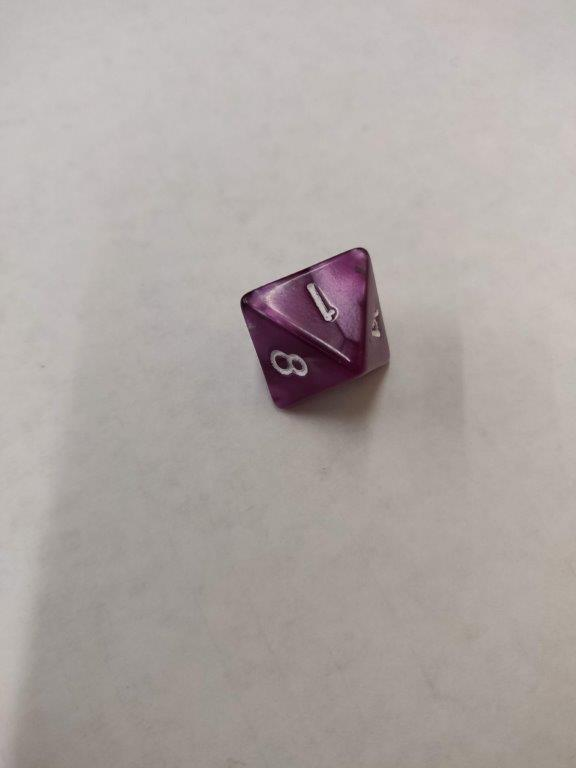d8-1: (241, 244, 391, 413)
